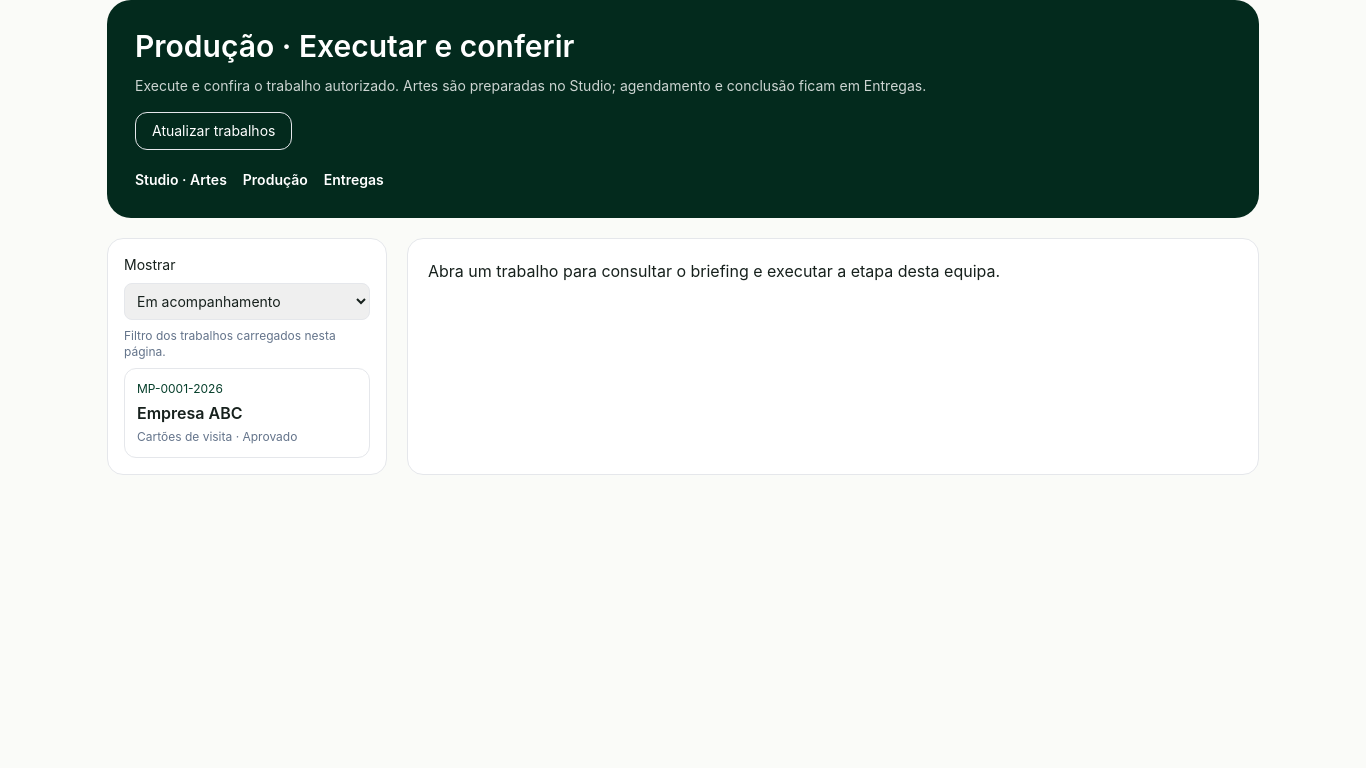
Production workspace › has a technical workspace and does not fetch financial APIs
This screenshot has width=1366, height=768.
Step 1. Click the button "MP-0001-2026 Empresa ABC Cartões de visita · Aprovado" → (247, 413), box [124, 368, 370, 458]
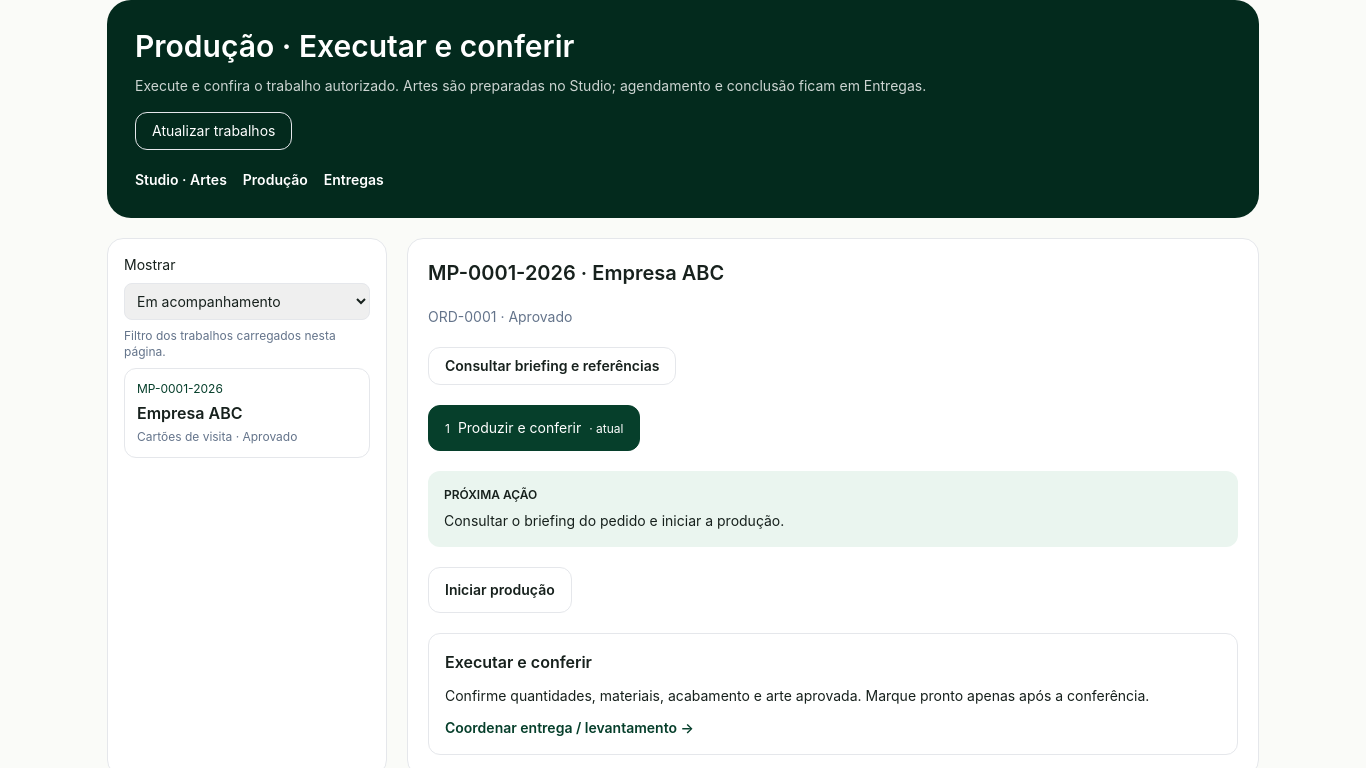
Expected: the text "Próxima ação" is shown, [444, 487, 537, 502]
Step 2. Click the button "Consultar briefing e referências" → (552, 366), box [428, 347, 676, 385]
(page scrolled)
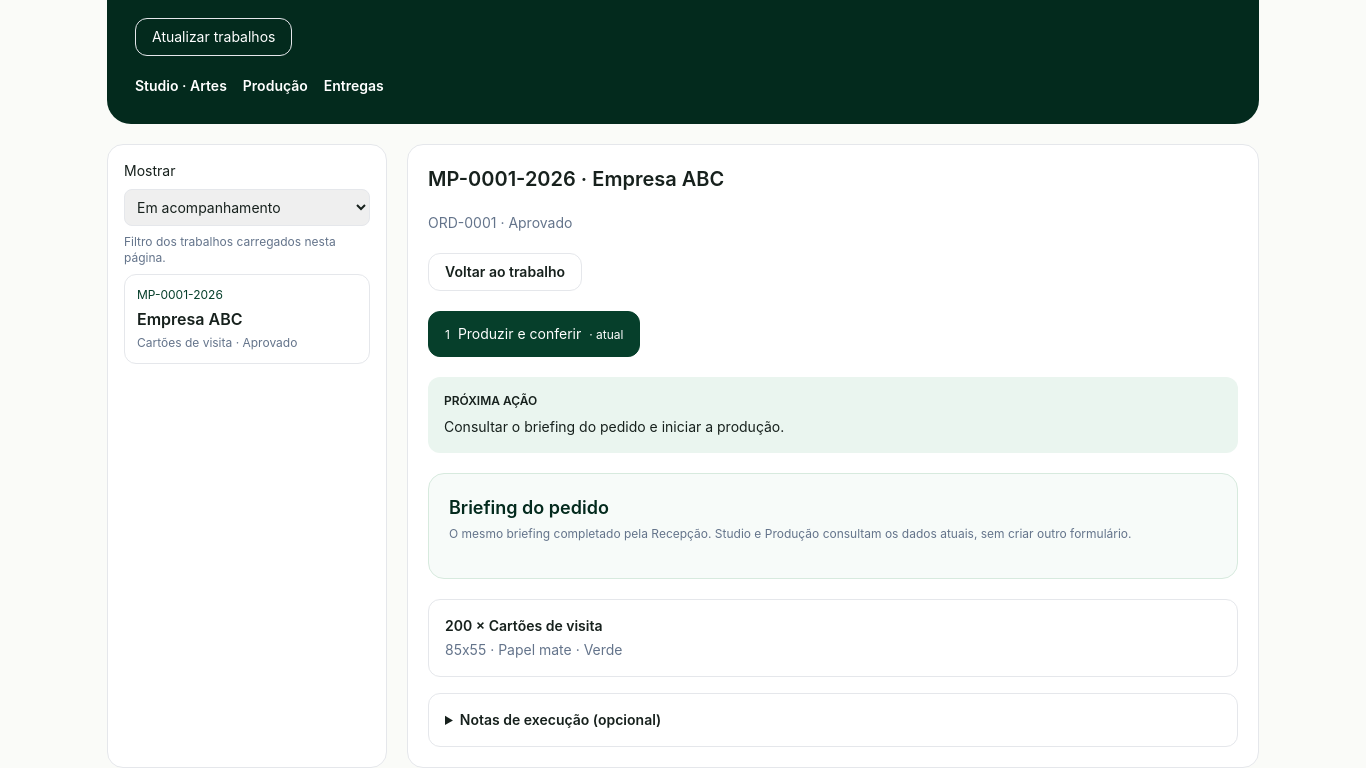
Expected: the heading "Briefing do pedido" is shown, [449, 497, 609, 518]
Step 3. Click the heading "Notas de execução (opcional)" → (560, 720), box [460, 711, 661, 728]
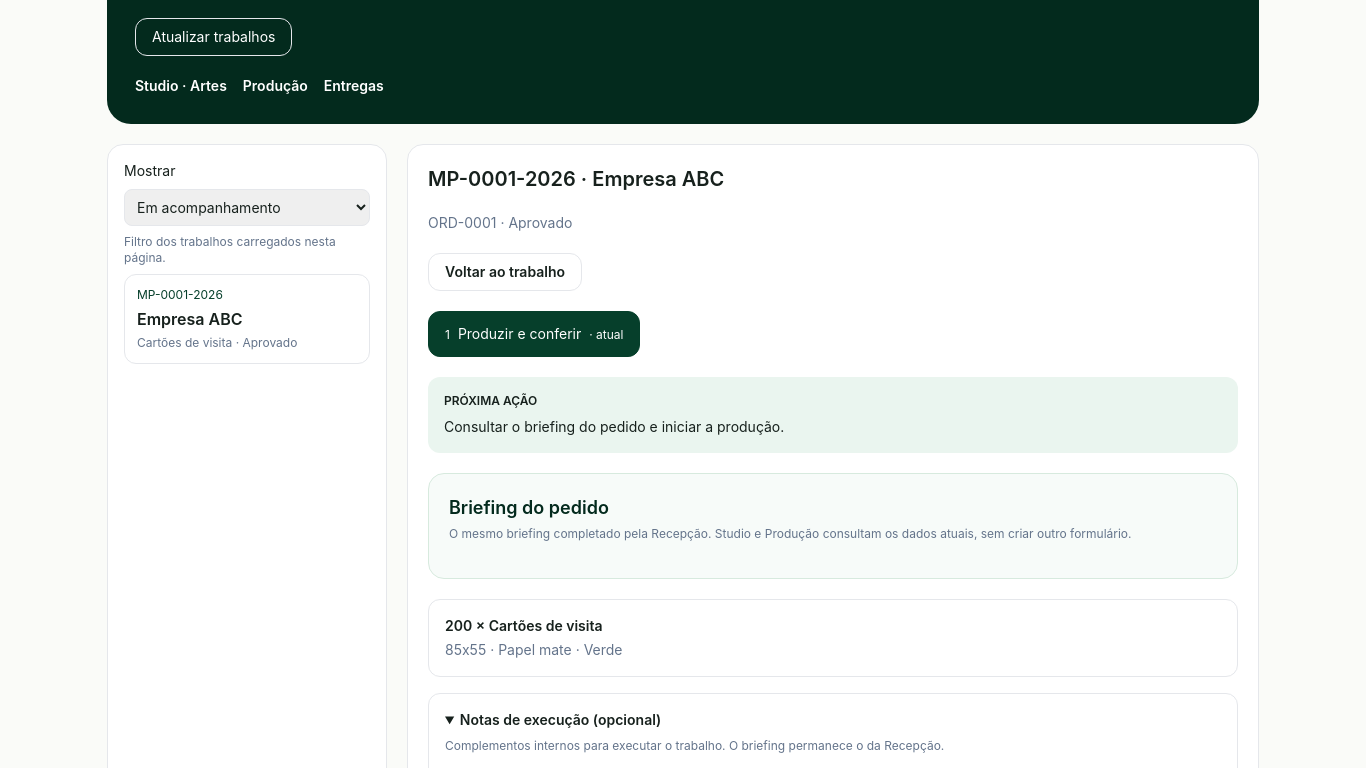
Step 4. Click the button "1Produzir e conferir· atual" → (534, 334), box [428, 311, 640, 357]
(page scrolled)
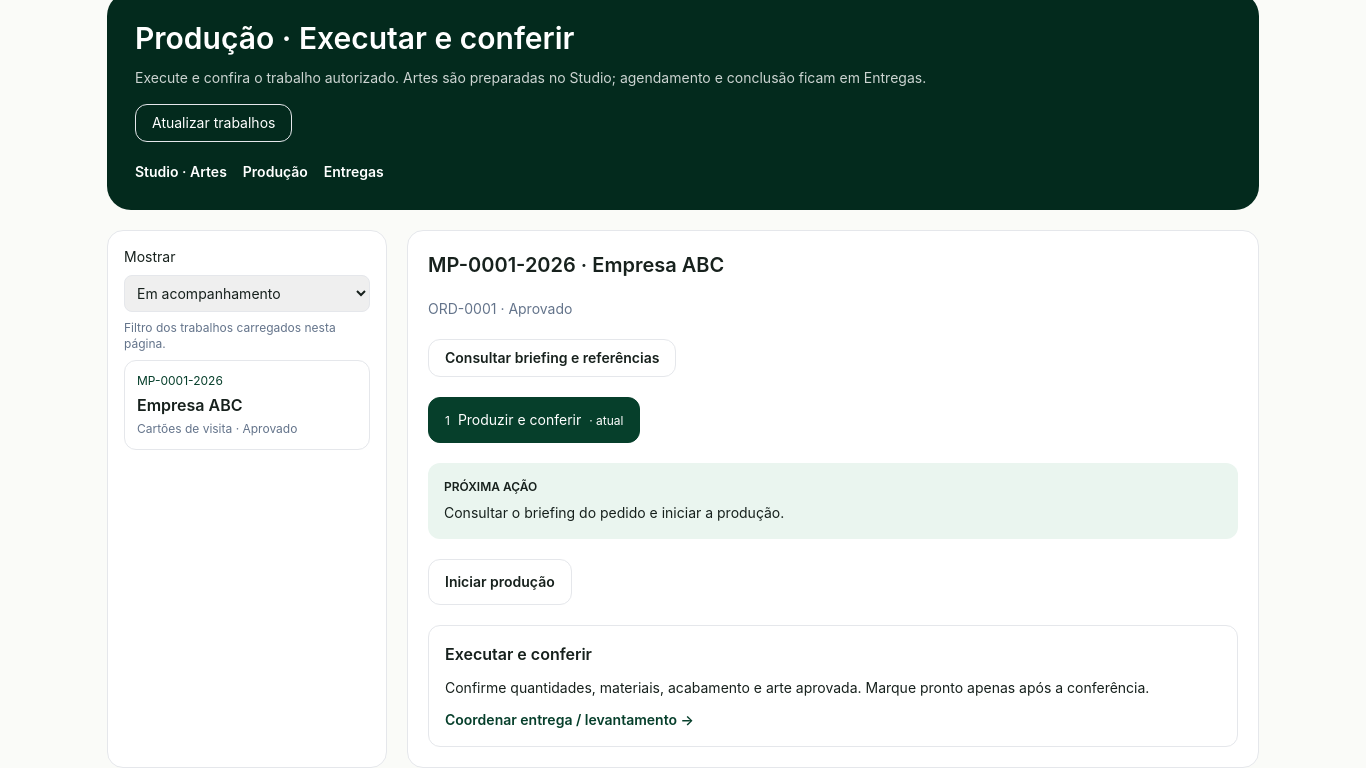
Expected: the button "Iniciar produção" is shown, [428, 559, 572, 605]
